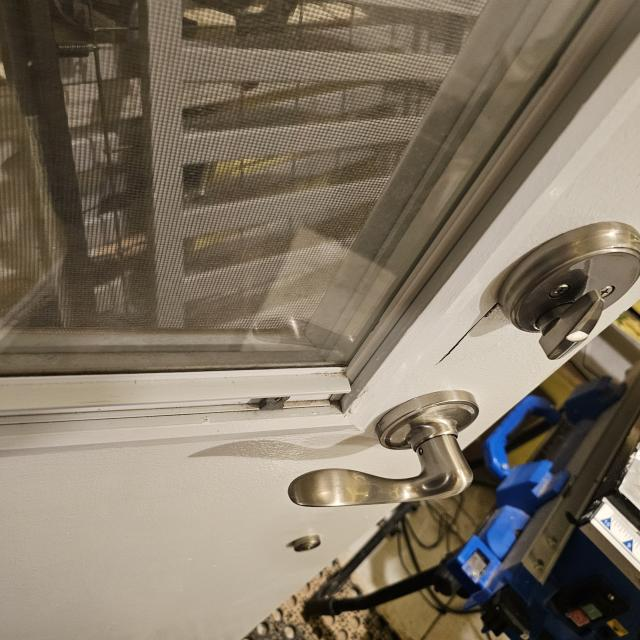door-handle: (288, 390, 479, 506)
